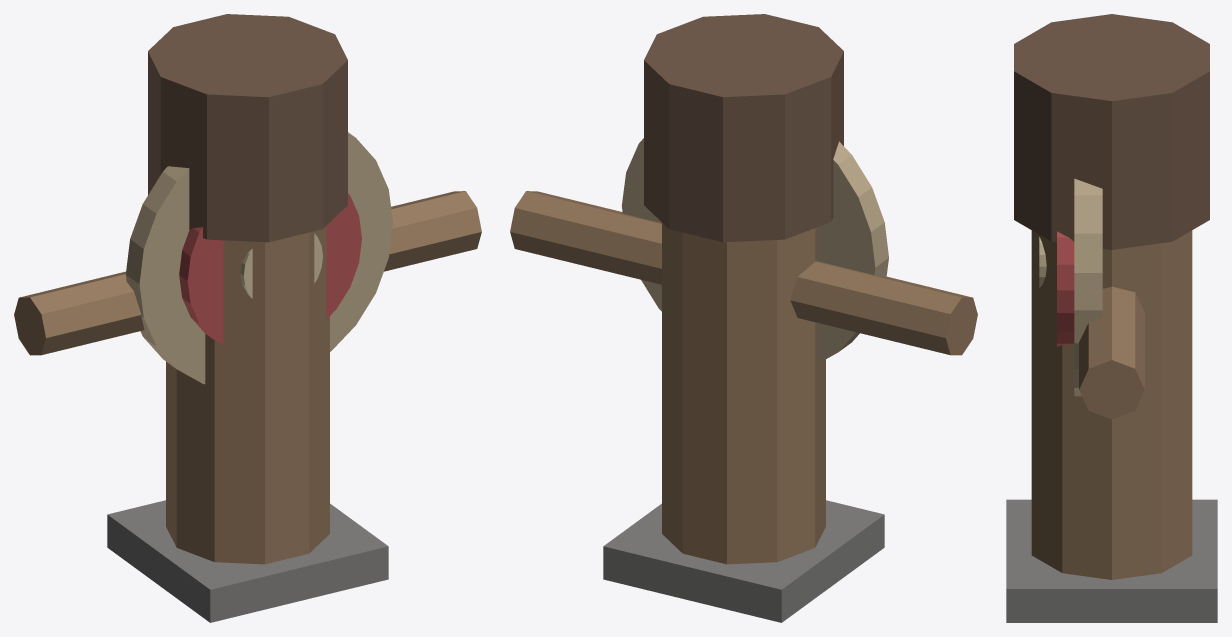
Rendered from training_dummy_target.glb.
The picture shows the model from 3 angles, left to right: view 1: azimuth 30°, elevation 25°; view 2: azimuth 150°, elevation 25°; view 3: azimuth 270°, elevation 25°; orthographic projection. The views are drawn at different scales.
Visible parts, largest first — view 1: training_dummy_post, training_dummy_head, training_dummy_target_outer, training_dummy_base, training_dummy_arms, training_dummy_target_mid, training_dummy_target_inner; view 2: training_dummy_post, training_dummy_head, training_dummy_arms, training_dummy_base, training_dummy_target_outer; view 3: training_dummy_post, training_dummy_head, training_dummy_base, training_dummy_arms, training_dummy_target_outer, training_dummy_target_mid.
Boxes of the visible parts, x1,y1,x2,y2 form: training_dummy_post: (166,226,329,564); training_dummy_head: (148,14,347,242); training_dummy_target_outer: (125,132,392,384); training_dummy_base: (107,500,388,622); training_dummy_arms: (14,191,481,355); training_dummy_target_mid: (179,193,361,344); training_dummy_target_inner: (240,233,322,298); training_dummy_post: (662,223,825,564); training_dummy_head: (644,14,843,242); training_dummy_arms: (510,191,977,355); training_dummy_base: (603,500,884,622); training_dummy_target_outer: (621,138,888,363); training_dummy_post: (1031,230,1192,579); training_dummy_head: (1014,14,1209,249); training_dummy_base: (1006,499,1217,622); training_dummy_arms: (1079,287,1144,419); training_dummy_target_outer: (1074,178,1102,396); training_dummy_target_mid: (1057,231,1074,346).
Bounding box in the file's own units: 1.1 × 1.23 × 0.45.
